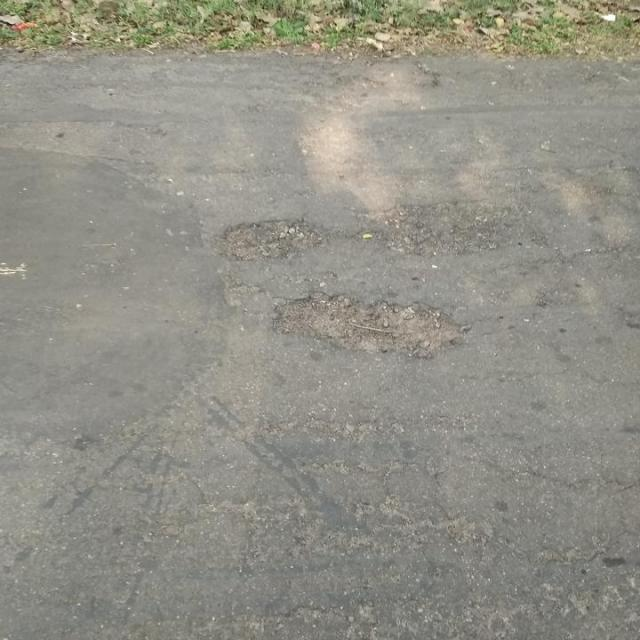pothole: (268, 286, 473, 360), (374, 197, 516, 259), (218, 212, 328, 264)
